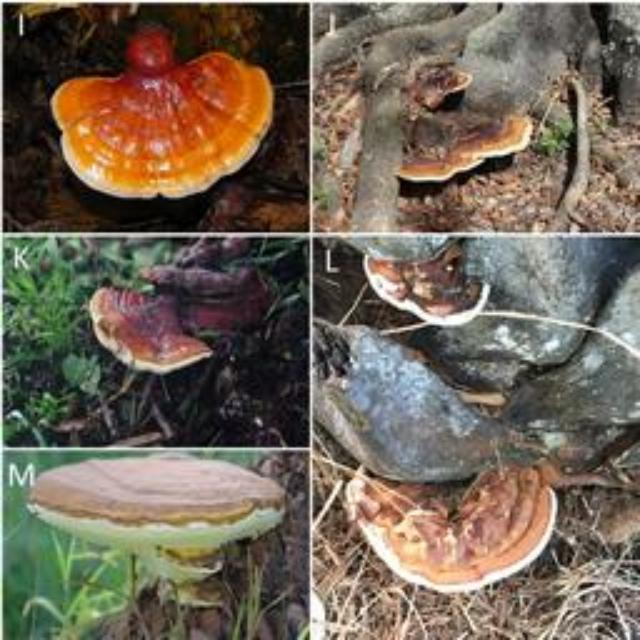ganoderma: (50, 51, 277, 201), (345, 461, 565, 598), (27, 451, 292, 561), (89, 286, 214, 378), (391, 112, 536, 187), (364, 253, 496, 330), (410, 65, 477, 107)
